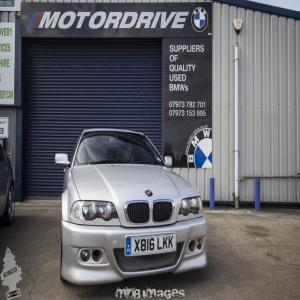Vehicle-registration-plate: (126, 235, 177, 257)
